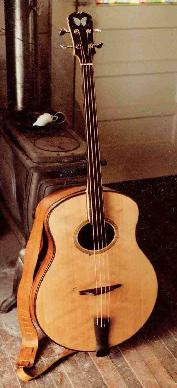guitar: (24, 9, 159, 355)
